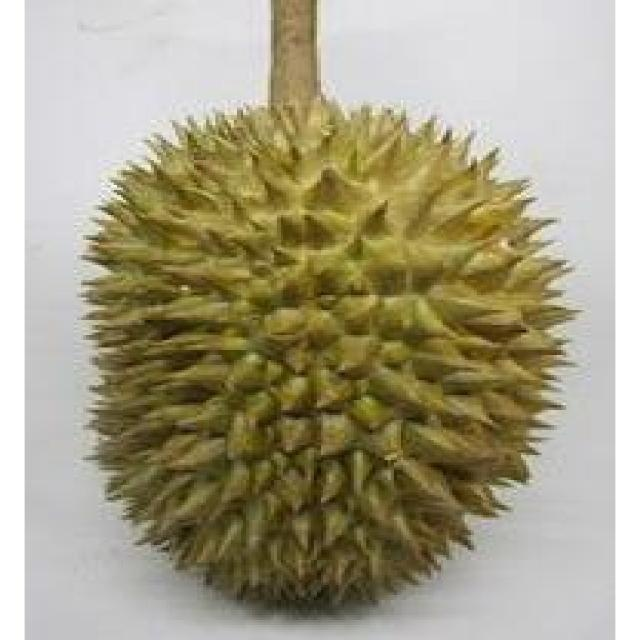agrume: (67, 58, 581, 621)
